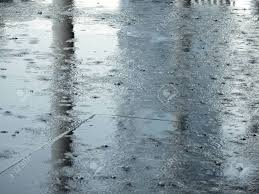Wet-floor: (1, 1, 254, 190)
